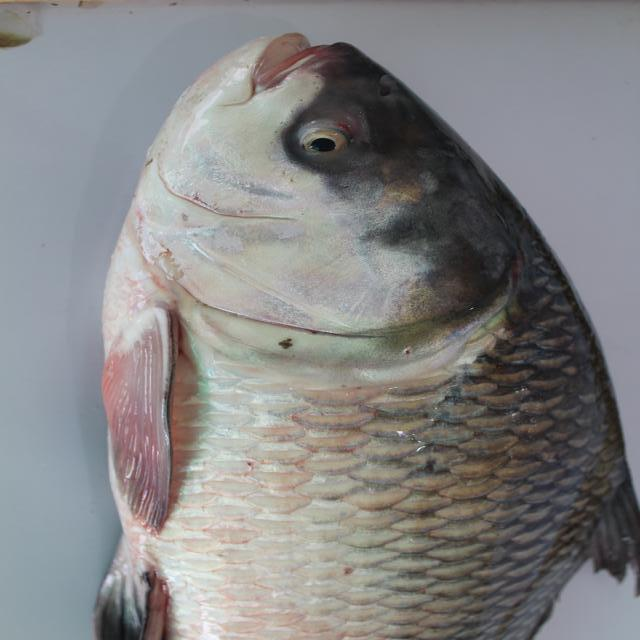Catla: (99, 31, 640, 640)
